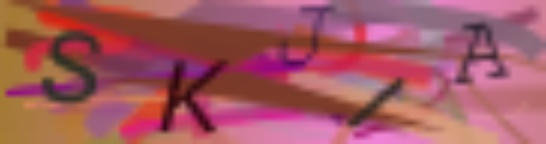A: (450, 19, 511, 88)
I: (345, 74, 409, 131)
J: (279, 1, 337, 71)
K: (153, 55, 235, 137)
S: (38, 26, 104, 107)
